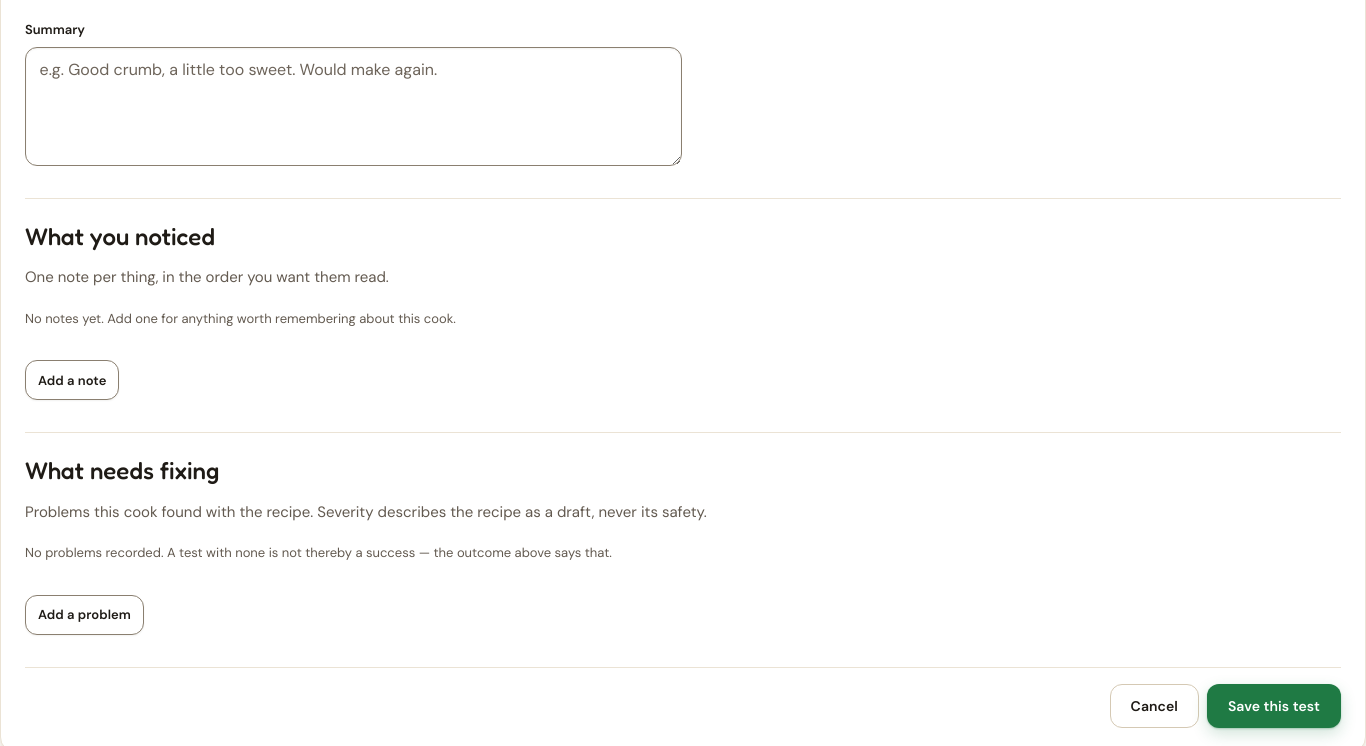
RecipeTestRunFormComponent › shows a list-level refusal as the section problem
(page scrolled)
Click the submit button: x=1274, y=706 [1207,684,1341,728]
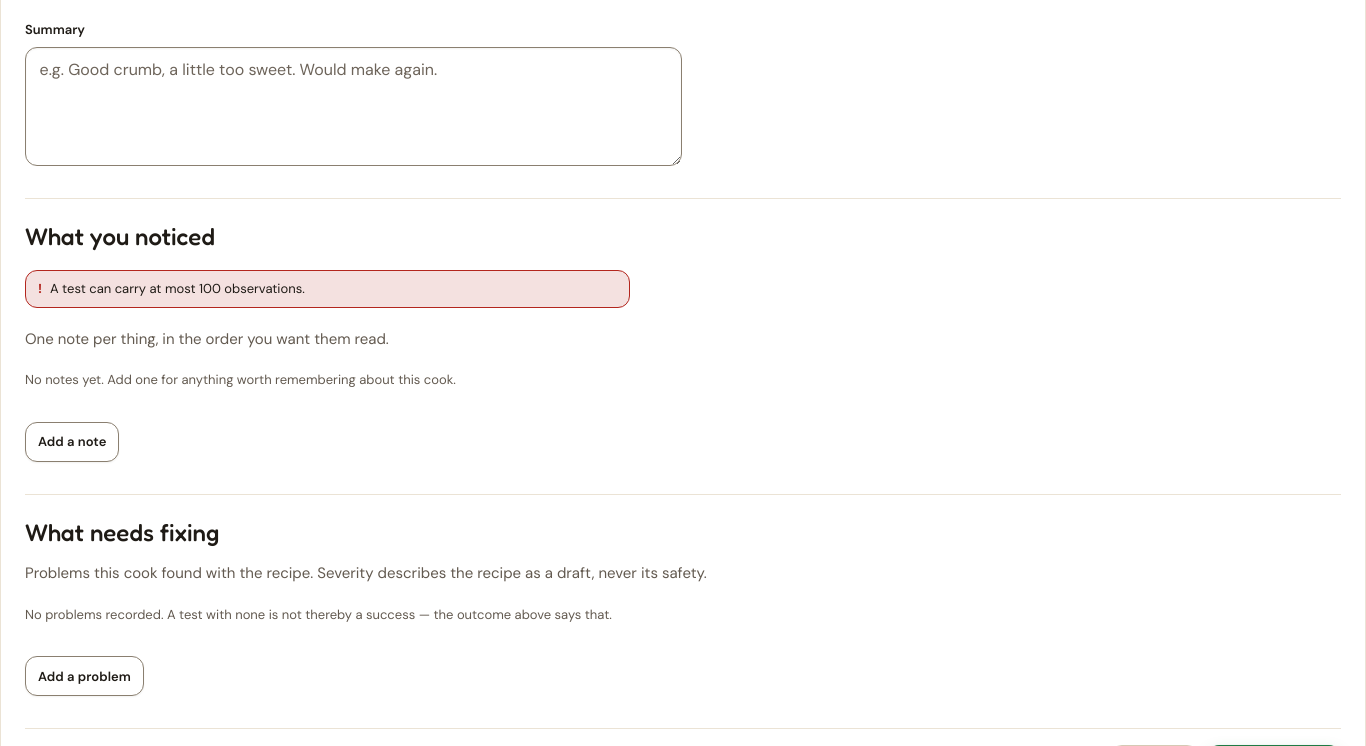
Expected: the text "A test can carry at most 100 observations." is shown, [25,270,630,308]
